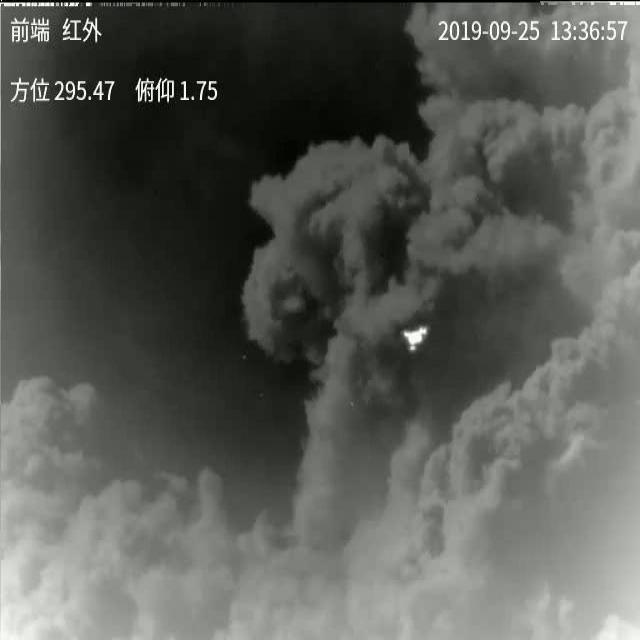drone: (406, 327, 426, 352)
